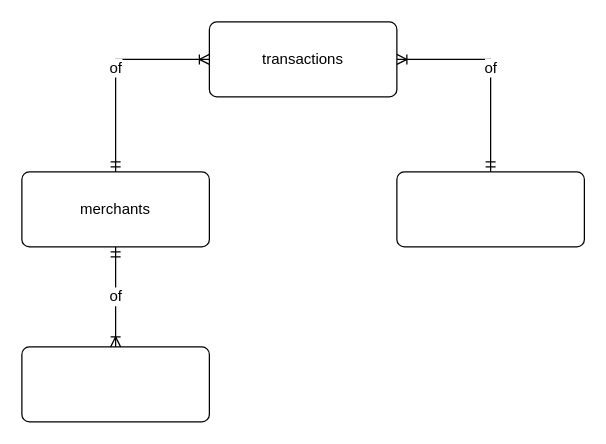
Some shapes in this 606 by 444 pixel diagram are drawn without their labels. The shapes that lost their labels are listed below. From the top down, each one's centre as x and y in pixels, then its label:
At (x=490, y=209): "locations".
At (x=115, y=384): "merch_locs".
